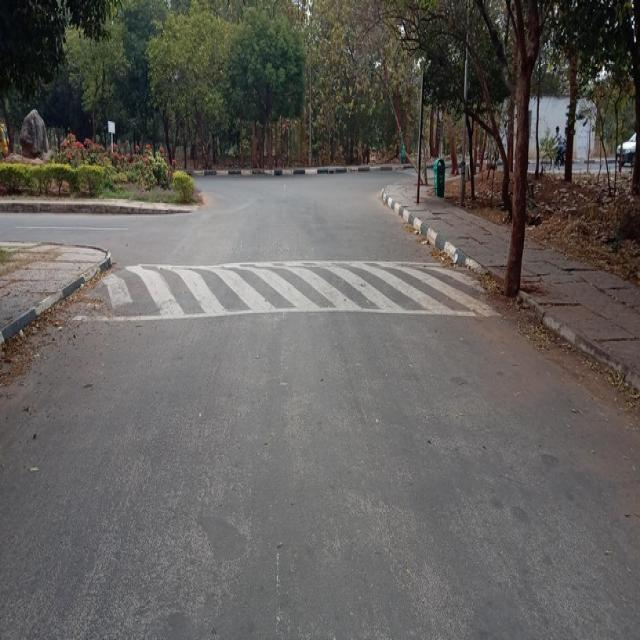speedbreaker: (40, 244, 492, 334)
